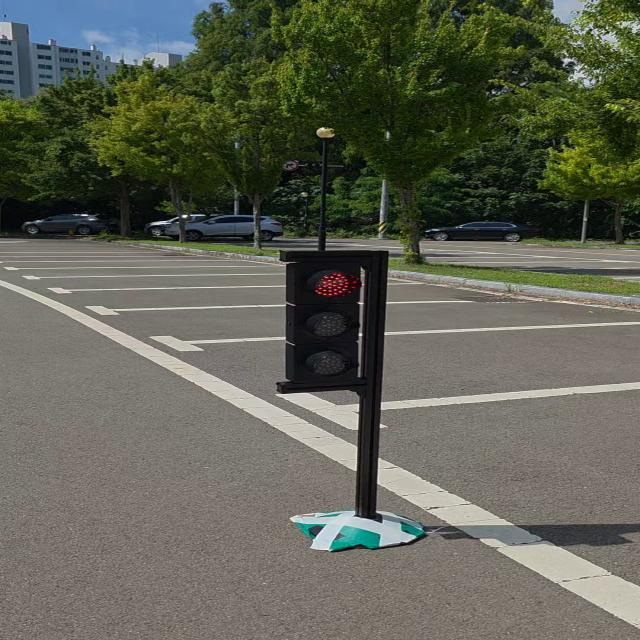red: (278, 252, 378, 397)
